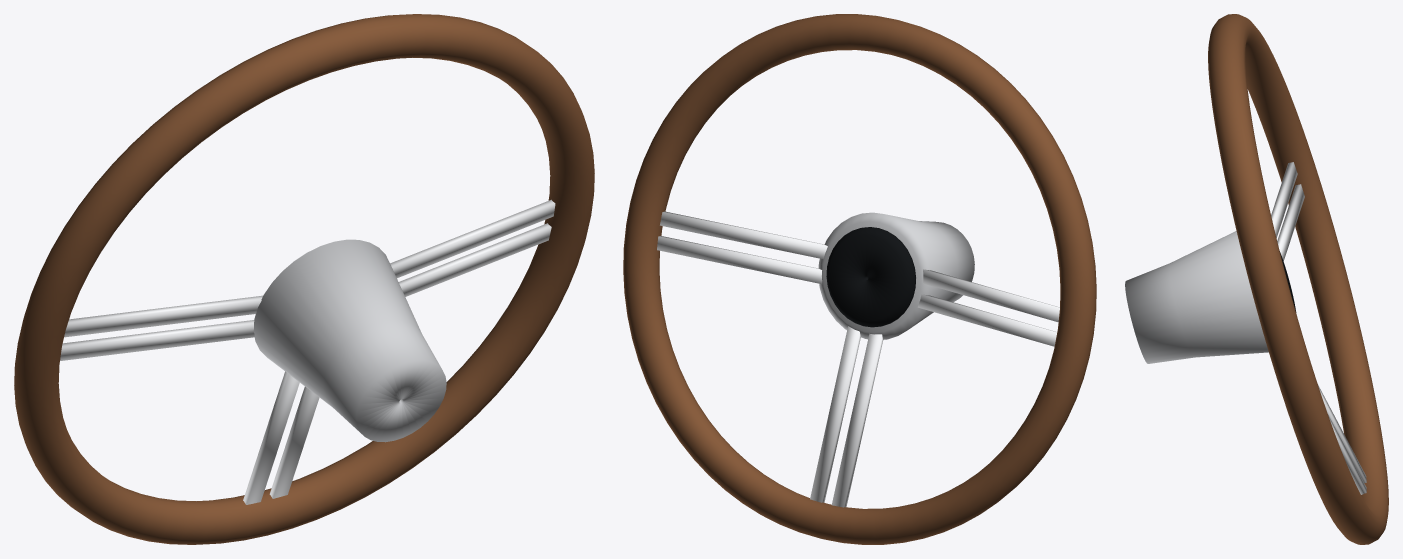
Rendered from SW01_classic_wood_wheel.glb.
3 views of the same model, side by side, from view 1: azimuth 30°, elevation 25°; view 2: azimuth 150°, elevation 25°; view 3: azimuth 270°, elevation 25° (orthographic). The views are drawn at different scales.
Parts seen in each view (by area): view 1: MOD_ND_SW01_rim, MOD_ND_SW01_boss, MOD_ND_SW01_spoke1_b, MOD_ND_SW01_spoke1_a, MOD_ND_SW01_spoke0_a, MOD_ND_SW01_spoke0_b, MOD_ND_SW01_spoke2_b, MOD_ND_SW01_spoke2_a; view 2: MOD_ND_SW01_rim, MOD_ND_SW01_horn, MOD_ND_SW01_boss, MOD_ND_SW01_spoke2_b, MOD_ND_SW01_spoke2_a, MOD_ND_SW01_spoke0_a, MOD_ND_SW01_spoke0_b, MOD_ND_SW01_spoke1_a, MOD_ND_SW01_spoke1_b; view 3: MOD_ND_SW01_rim, MOD_ND_SW01_boss, MOD_ND_SW01_spoke1_a, MOD_ND_SW01_spoke1_b, MOD_ND_SW01_spoke2_b, MOD_ND_SW01_spoke2_a.
Boxes of the visible parts, bbox=[...] form: MOD_ND_SW01_rim: bbox=[14, 14, 594, 544]; MOD_ND_SW01_boss: bbox=[253, 239, 446, 442]; MOD_ND_SW01_spoke1_b: bbox=[64, 295, 262, 337]; MOD_ND_SW01_spoke1_a: bbox=[60, 320, 254, 360]; MOD_ND_SW01_spoke0_a: bbox=[390, 199, 555, 278]; MOD_ND_SW01_spoke0_b: bbox=[398, 223, 551, 296]; MOD_ND_SW01_spoke2_b: bbox=[243, 371, 299, 504]; MOD_ND_SW01_spoke2_a: bbox=[269, 386, 319, 498]; MOD_ND_SW01_rim: bbox=[623, 14, 1096, 544]; MOD_ND_SW01_horn: bbox=[826, 227, 915, 327]; MOD_ND_SW01_boss: bbox=[818, 212, 974, 339]; MOD_ND_SW01_spoke2_b: bbox=[831, 333, 883, 507]; MOD_ND_SW01_spoke2_a: bbox=[810, 326, 860, 502]; MOD_ND_SW01_spoke0_a: bbox=[660, 211, 827, 259]; MOD_ND_SW01_spoke0_b: bbox=[657, 236, 822, 284]; MOD_ND_SW01_spoke1_a: bbox=[917, 294, 1057, 346]; MOD_ND_SW01_spoke1_b: bbox=[923, 269, 1059, 322]; MOD_ND_SW01_rim: bbox=[1208, 14, 1388, 544]; MOD_ND_SW01_boss: bbox=[1125, 231, 1268, 363]; MOD_ND_SW01_spoke1_a: bbox=[1277, 184, 1304, 260]; MOD_ND_SW01_spoke1_b: bbox=[1271, 162, 1297, 237]; MOD_ND_SW01_spoke2_b: bbox=[1318, 385, 1366, 482]; MOD_ND_SW01_spoke2_a: bbox=[1328, 414, 1366, 494].
Size of the model in its own units: 0.382 by 0.3673 by 0.1837.
